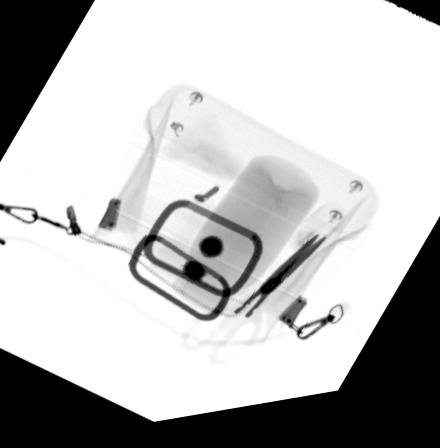Scissors: (179, 242, 326, 373)
